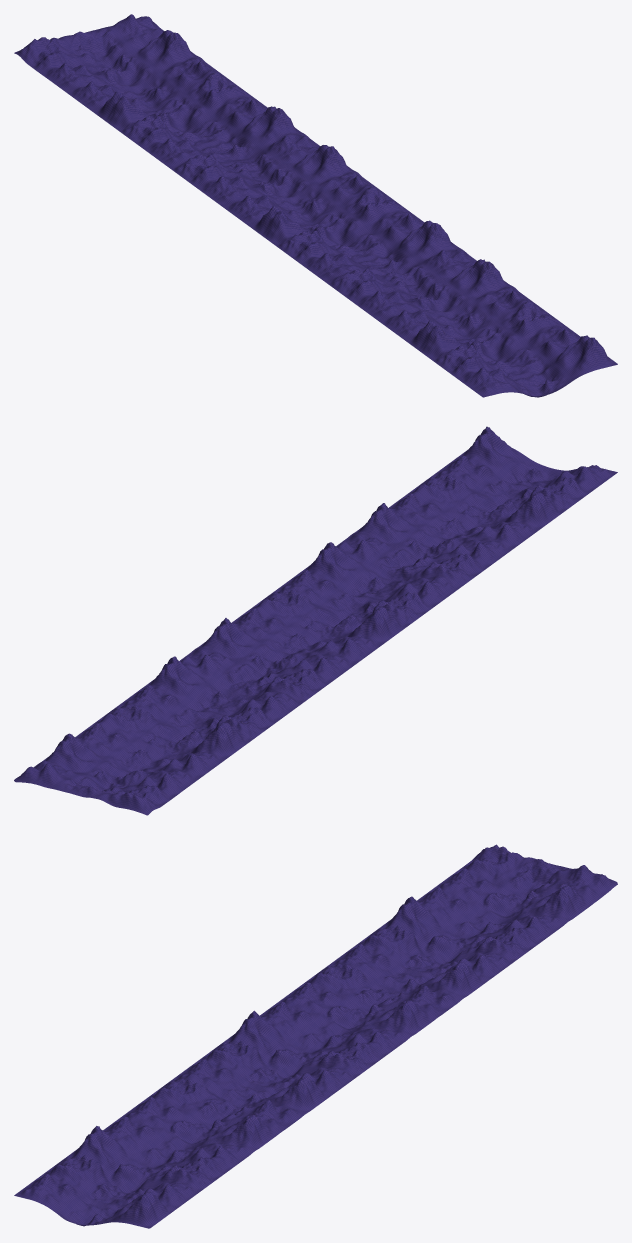
File: Mountains.glb
3 renders of one model, top to bottom at view 1: azimuth 30°, elevation 25°; view 2: azimuth 150°, elevation 25°; view 3: azimuth 330°, elevation 25°, orthographic.
Visible parts, largest first — view 1: Mountains; view 2: Mountains; view 3: Mountains.
Part boxes in pixels (<box>): Mountains: <box>14,14,617,397</box>; Mountains: <box>14,426,617,815</box>; Mountains: <box>14,844,617,1228</box>.
Size of the model in its own units: 36.11 by 10.85 by 216.
1 material, 1 textured.
